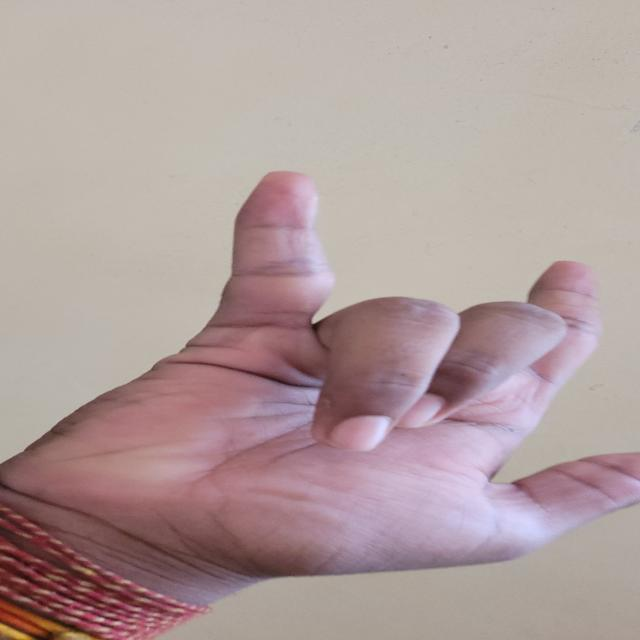i like you: (76, 139, 634, 609)
